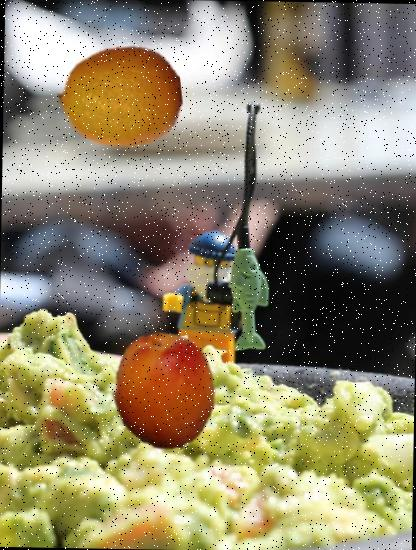Apricot: (103, 330, 225, 452)
Lemon: (55, 32, 183, 160)
